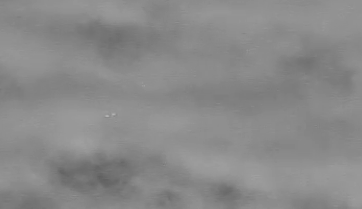Target: (106, 113, 115, 116)
